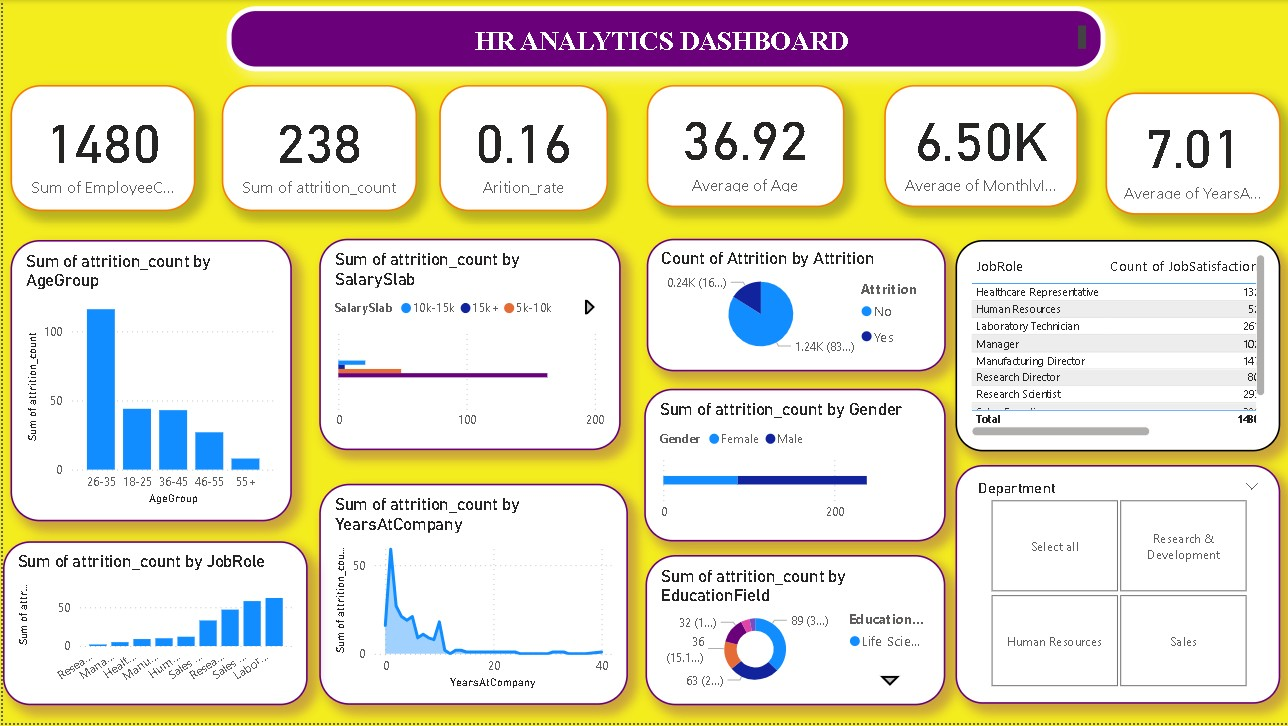

The page's visual inventory and layout, read from the dashboard file:
{"tool":"powerbi","page":{"name":"Page 1","canvas":[1280,720],"ordinal":0},"visuals":[{"type":"card","fields":{"Values":["Sum(HR_Analytics.EmployeeCount)"]},"box":[7.5,84.6,184.1,125.6],"z":0},{"type":"card","fields":{"Values":["Sum(HR_Analytics.attrition_count)"]},"box":[217.7,84.6,194.1,125.6],"z":1},{"type":"card","fields":{"Values":["HR_Analytics.Measure"]},"box":[434.1,84.6,167.9,125.6],"z":3},{"type":"card","fields":{"Values":["Avg(HR_Analytics.Age)"]},"box":[640.6,84.6,196.5,121.9],"z":4},{"type":"card","fields":{"Values":["Avg(HR_Analytics.MonthlyIncome)"]},"box":[877,84.6,192.8,121.9],"z":5},{"type":"card","fields":{"Values":["Avg(HR_Analytics.YearsAtCompany)"]},"box":[1097.2,92.1,174.2,121.9],"z":6},{"type":"barChart","fields":{"Series":["HR_Analytics.Gender"],"Y":["Sum(HR_Analytics.attrition_count)"]},"box":[638.2,386.9,299.8,151.8],"z":7},{"type":"donutChart","fields":{"Y":["Sum(HR_Analytics.attrition_count)"],"Category":["HR_Analytics.EducationField"]},"box":[639.4,552.3,298.6,149.3],"z":8},{"type":"clusteredColumnChart","fields":{"Y":["Sum(HR_Analytics.attrition_count)"],"Category":["HR_Analytics.AgeGroup"]},"box":[7.5,238.8,279.9,279.9],"z":9},{"type":"pieChart","fields":{"Y":["CountNonNull(HR_Analytics.Attrition)"],"Category":["HR_Analytics.Attrition"]},"box":[640.6,237.6,297.3,131.9],"z":10},{"type":"tableEx","fields":{"Values":["HR_Analytics.JobRole","CountNonNull(HR_Analytics.JobSatisfaction)","CountNonNull(HR_Analytics.attrition_count)"]},"box":[947.9,238.8,323.4,210.2],"z":11},{"type":"clusteredBarChart","fields":{"Series":["HR_Analytics.SalarySlab"],"Y":["Sum(HR_Analytics.attrition_count)"]},"box":[314.7,237.6,299.8,210.2],"z":12},{"type":"stackedAreaChart","fields":{"Category":["HR_Analytics.YearsAtCompany"],"Y":["Sum(HR_Analytics.attrition_count)"]},"box":[314.7,481.4,307.3,220.2],"z":13},{"type":"clusteredColumnChart","fields":{"Y":["Sum(HR_Analytics.attrition_count)"],"Category":["HR_Analytics.JobRole"]},"box":[0,538.6,303.5,163],"z":14},{"type":"slicer","fields":{"Values":["HR_Analytics.Department"]},"box":[947.9,462.8,323.4,237.6],"z":15},{"type":"textbox","box":[222.7,6.2,874.5,64.7],"z":16}]}

Visuals, with their boxes in screenshot pixels (x1, y1, x2, y2), scaled from the page's 1280x720 canvas onto the 1288x726 screenshot:
card - Sum(HR_Analytics.EmployeeCount): [8, 85, 193, 212]
card - Sum(HR_Analytics.attrition_count): [219, 85, 414, 212]
card - HR_Analytics.Measure: [437, 85, 606, 212]
card - Avg(HR_Analytics.Age): [645, 85, 842, 208]
card - Avg(HR_Analytics.MonthlyIncome): [882, 85, 1076, 208]
card - Avg(HR_Analytics.YearsAtCompany): [1104, 93, 1279, 216]
barChart - HR_Analytics.Gender x Sum(HR_Analytics.attrition_count): [642, 390, 944, 543]
donutChart - Sum(HR_Analytics.attrition_count) x HR_Analytics.EducationField: [643, 557, 944, 707]
clusteredColumnChart - Sum(HR_Analytics.attrition_count) x HR_Analytics.AgeGroup: [8, 241, 289, 523]
pieChart - CountNonNull(HR_Analytics.Attrition) x HR_Analytics.Attrition: [645, 240, 944, 373]
tableEx - HR_Analytics.JobRole x CountNonNull(HR_Analytics.JobSatisfaction): [954, 241, 1279, 453]
clusteredBarChart - HR_Analytics.SalarySlab x Sum(HR_Analytics.attrition_count): [317, 240, 618, 452]
stackedAreaChart - HR_Analytics.YearsAtCompany x Sum(HR_Analytics.attrition_count): [317, 485, 626, 707]
clusteredColumnChart - Sum(HR_Analytics.attrition_count) x HR_Analytics.JobRole: [0, 543, 305, 707]
slicer - HR_Analytics.Department: [954, 467, 1279, 706]
textbox: [224, 6, 1104, 71]
